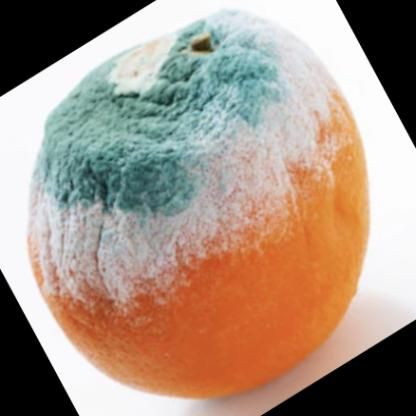rotten: (30, 15, 370, 399)
